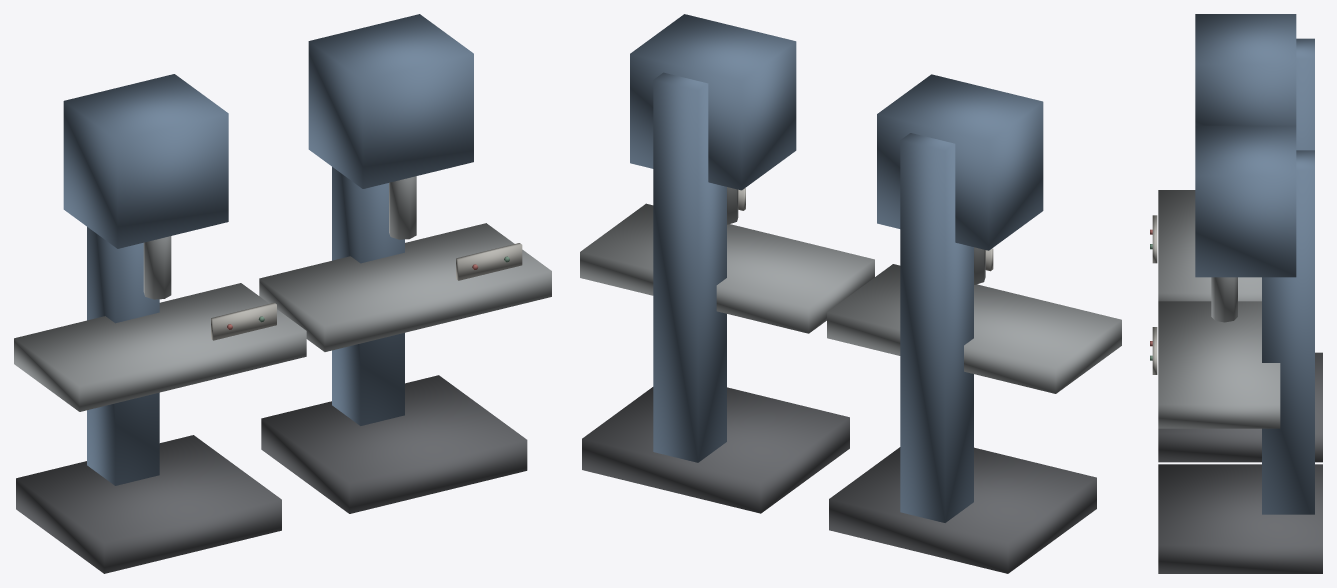
The model's file is milling_machine_silhouette__cluster.glb.
The picture shows the model from 3 angles, left to right: view 1: azimuth 30°, elevation 25°; view 2: azimuth 150°, elevation 25°; view 3: azimuth 270°, elevation 25°; orthographic projection. The views are drawn at different scales.
Visible parts, largest first — view 1: world; view 2: world; view 3: world.
Part boxes in pixels (box(x1,y1,x2,y2)): world: box(14, 14, 551, 573); world: box(580, 14, 1121, 573); world: box(1150, 14, 1322, 573).
Bounding box in the file's own units: 1.91 × 1.59 × 0.651.
